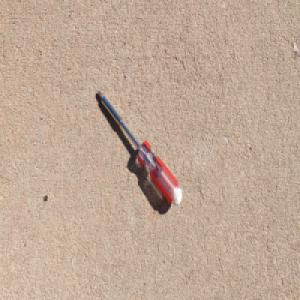Screwdriver: (95, 88, 183, 208)
